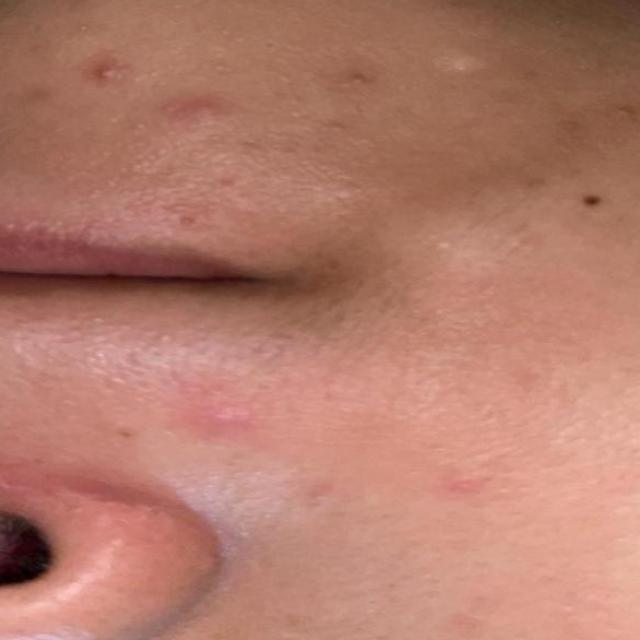papule: (139, 71, 244, 148), (175, 379, 303, 440)
pustule: (70, 47, 131, 102)
